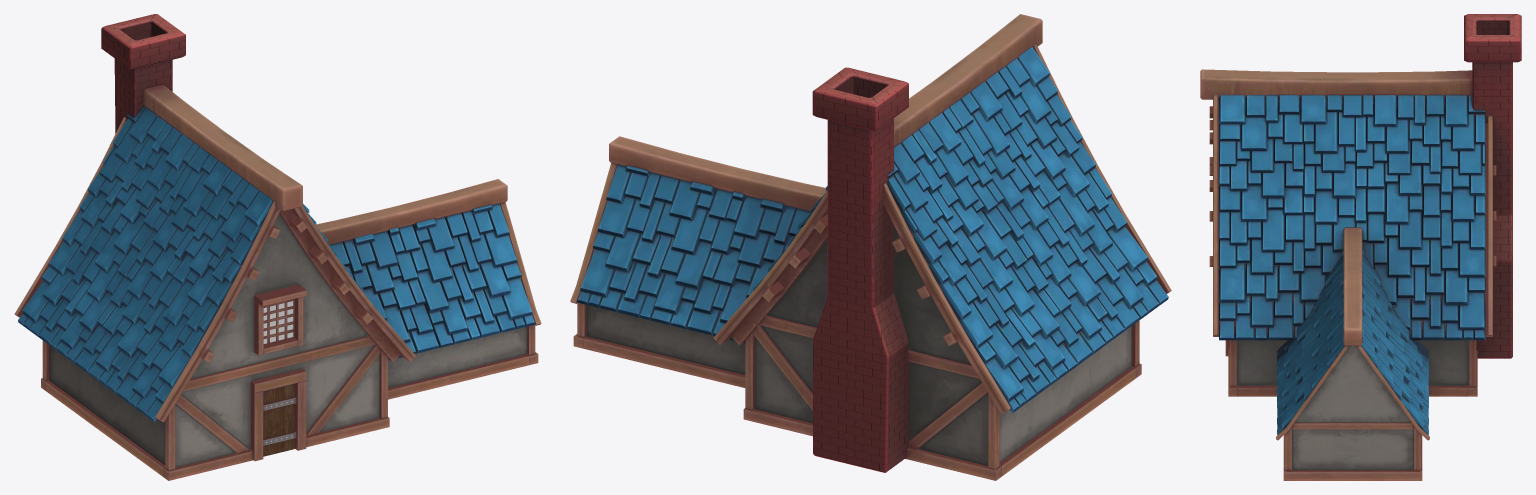
Rendered from stylized-house-free-b4a979.glb.
3 renders of one model, left to right at view 1: azimuth 30°, elevation 25°; view 2: azimuth 150°, elevation 25°; view 3: azimuth 270°, elevation 25°, orthographic. The views are drawn at different scales.
Parts seen in each view (by area): view 1: defaultMaterial (×5); view 2: defaultMaterial (×4); view 3: defaultMaterial (×4).
Part boxes in pixels (bbox=[...]): defaultMaterial (×5): bbox=[14, 14, 541, 480]; defaultMaterial (×4): bbox=[570, 14, 1171, 480]; defaultMaterial (×4): bbox=[1200, 14, 1521, 480].
Bounding box in the file's own units: 49.21 × 36.51 × 33.48.
5 materials, 5 textured.
